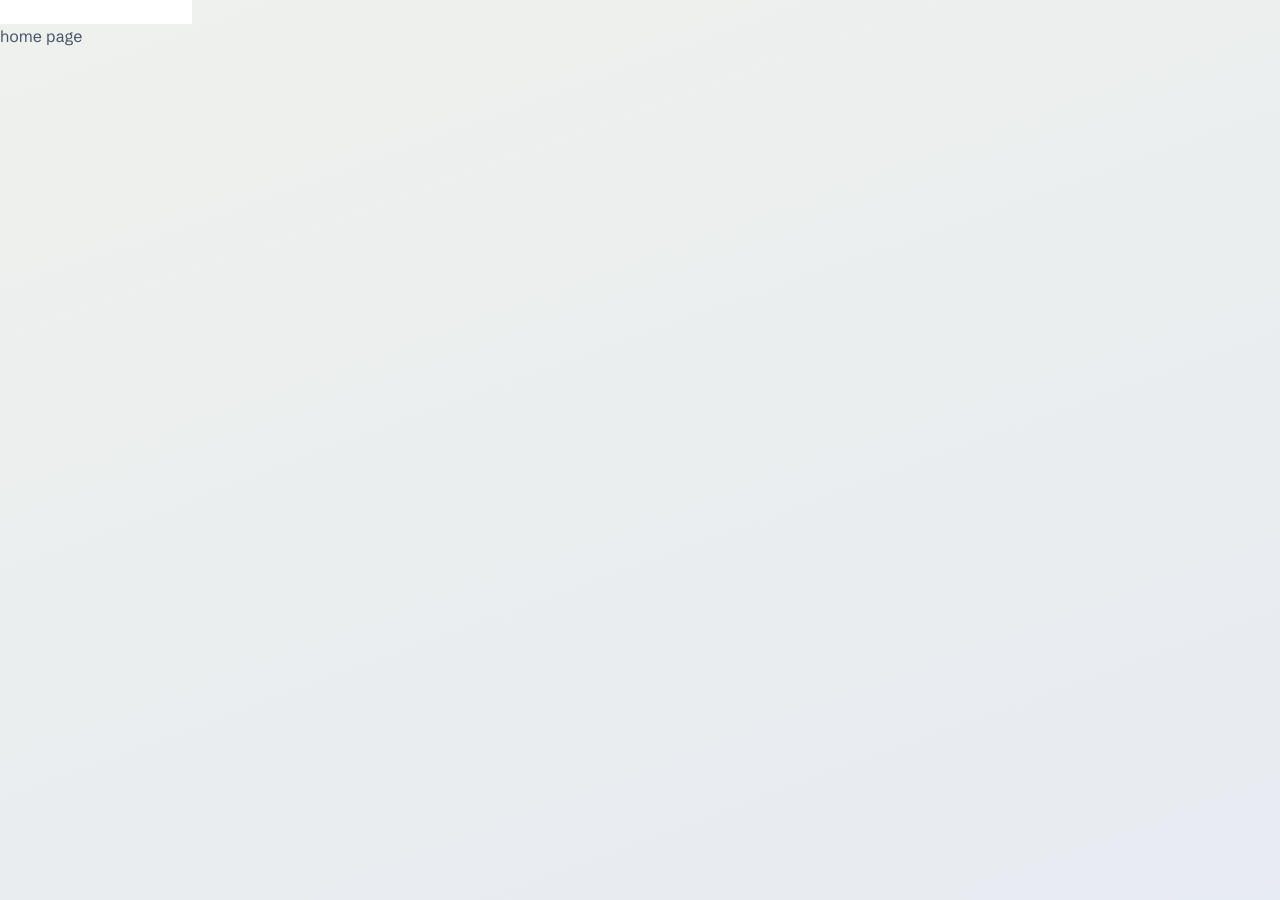
CommandPalette › creates a feature in a horizon with an inline title and navigates to it
Type keys "{Meta>}k{/Meta}"
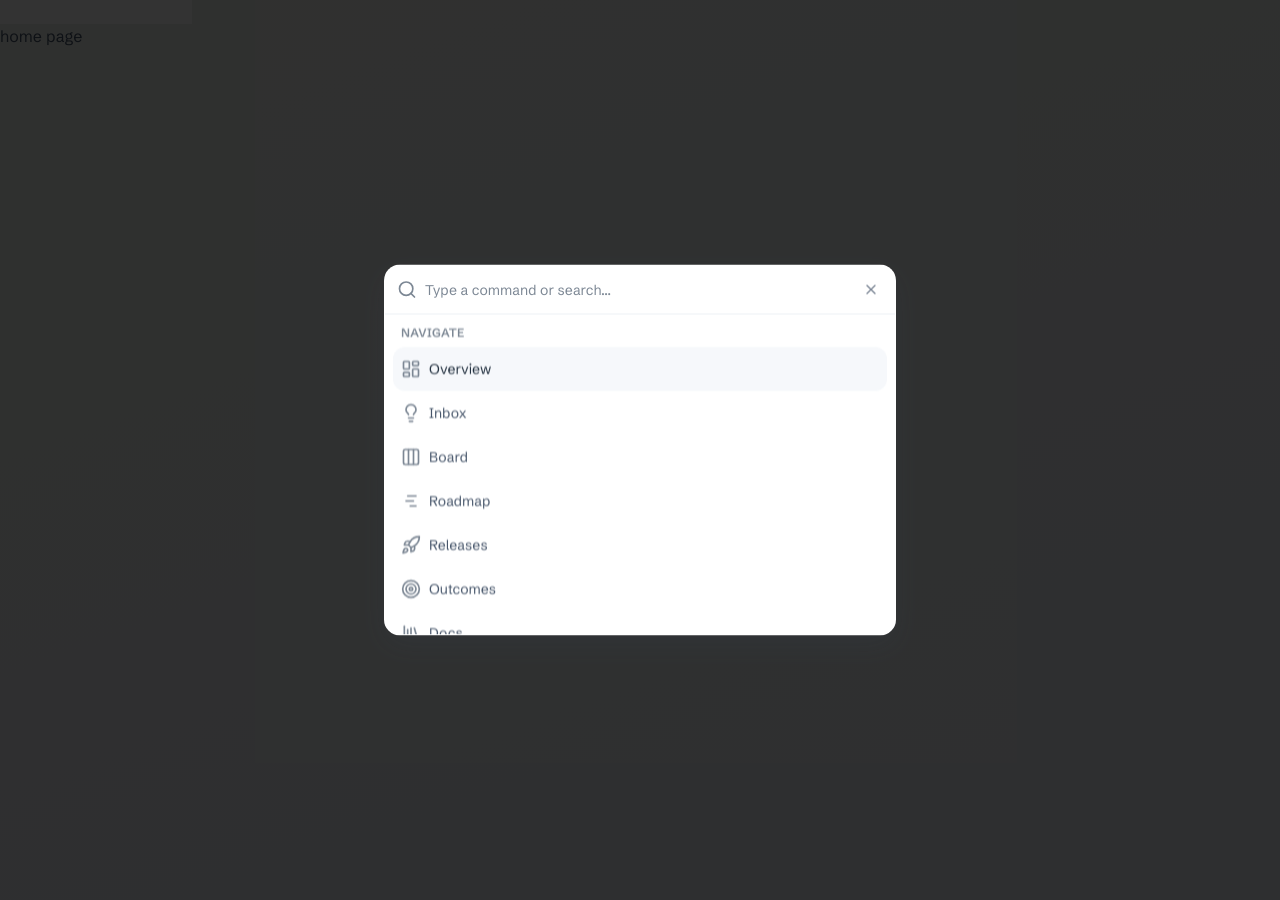
Type "new feature in later" into the dropdown with placeholder "Type a command or search…" at (654, 290), box [425,266,883,314]
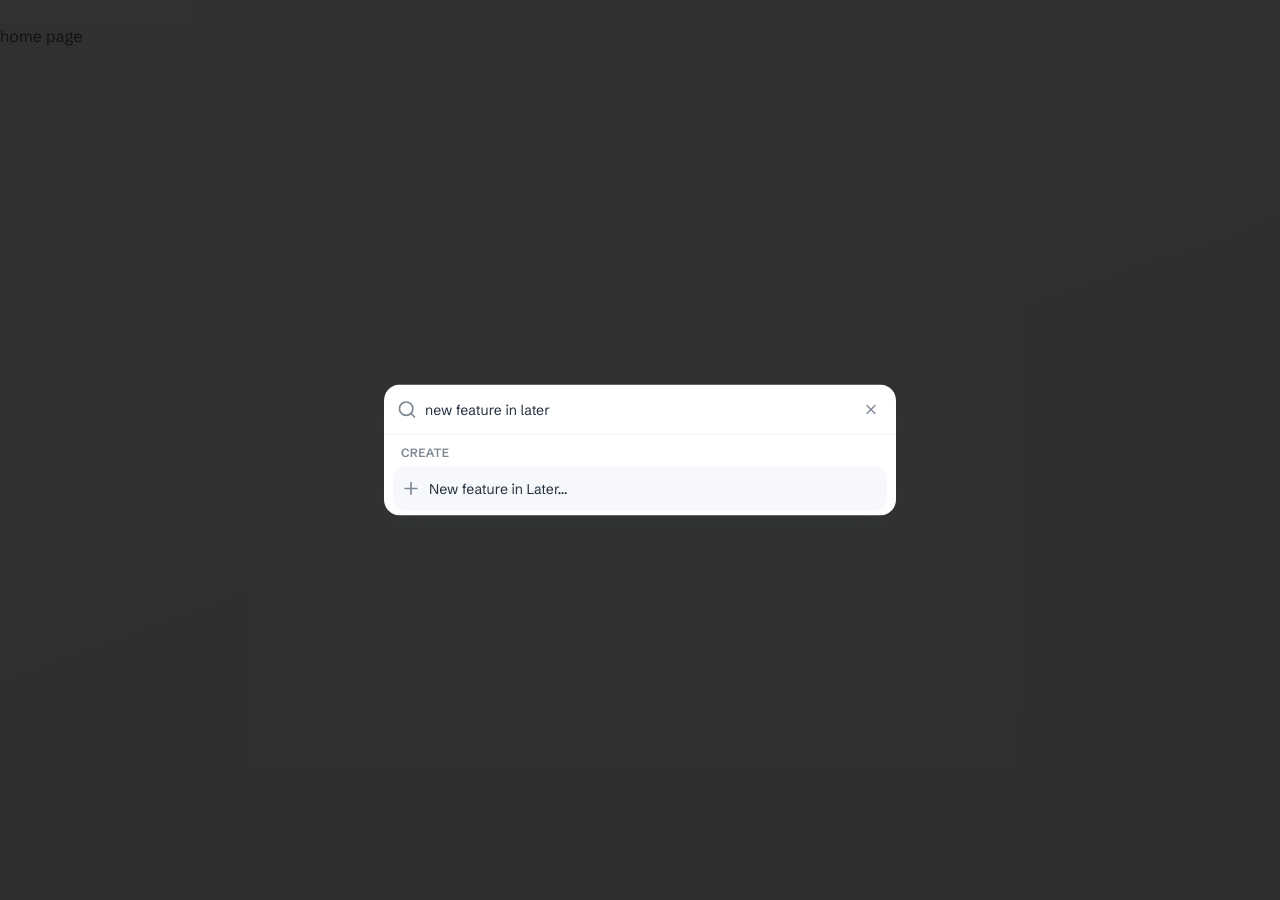
Click the option "New feature in Later…" at (478, 488), box [393,466,887,510]
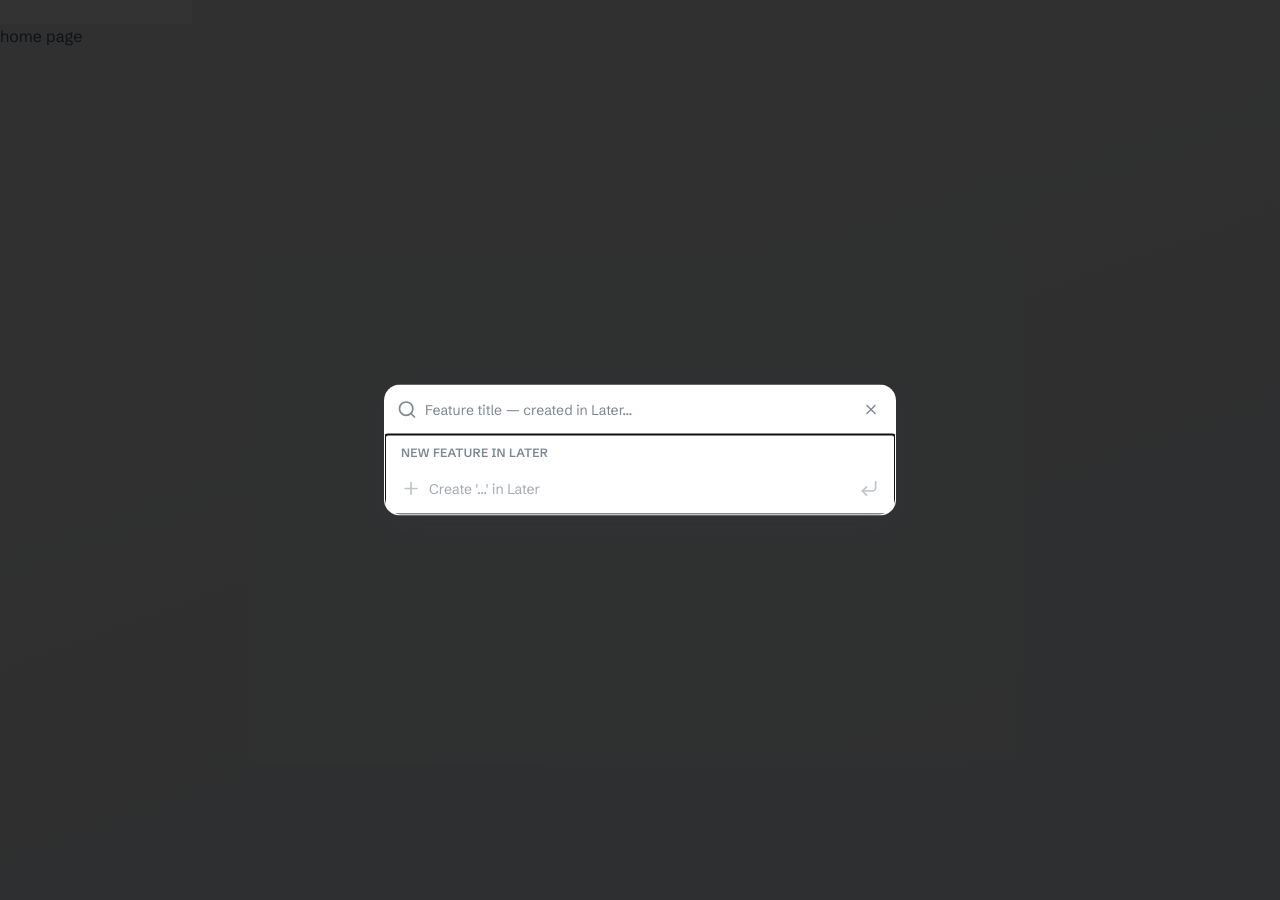
Type "Palette-born feature" into the dropdown with placeholder "Feature title — created in Later…" at (654, 410), box [425,386,883,434]
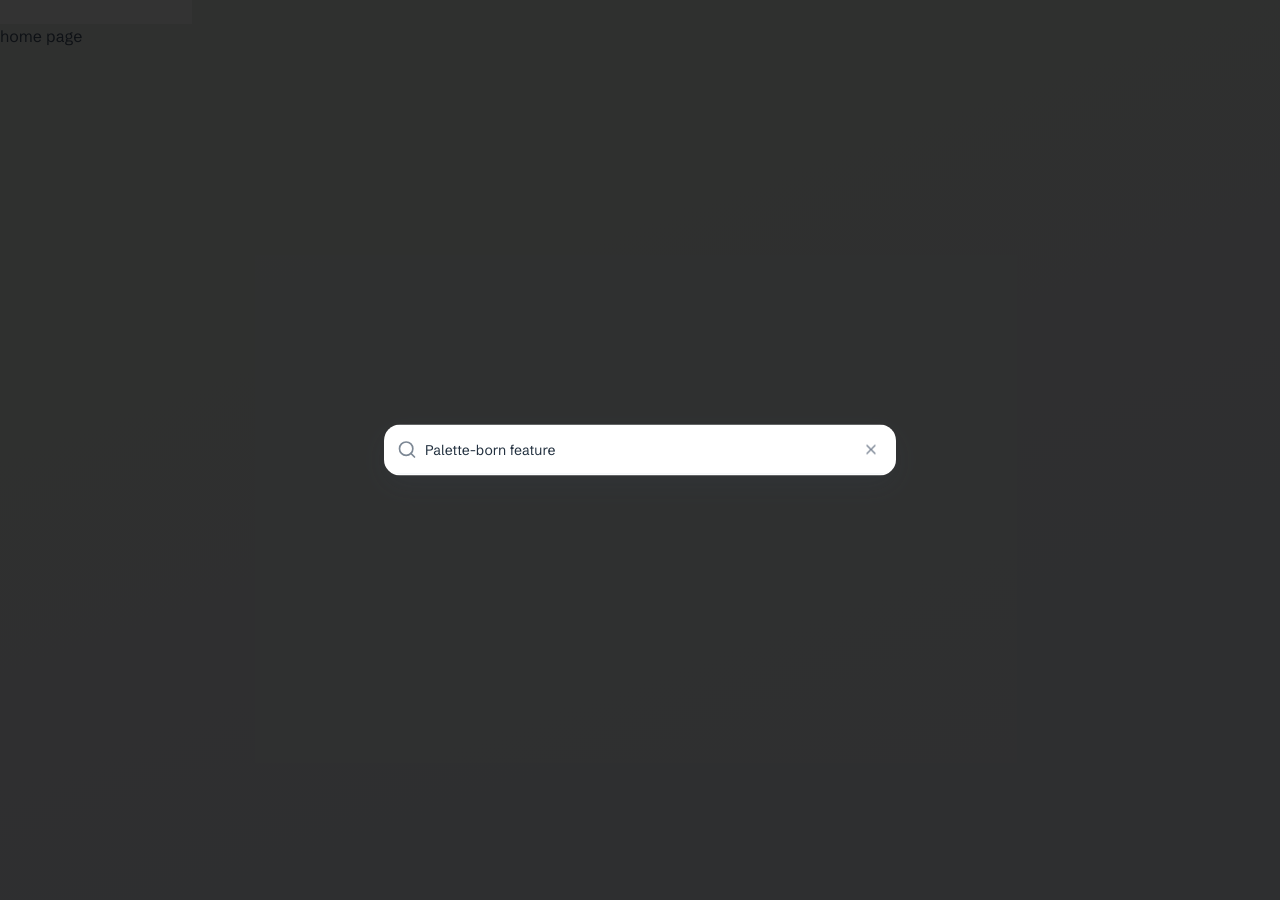
Press Enter
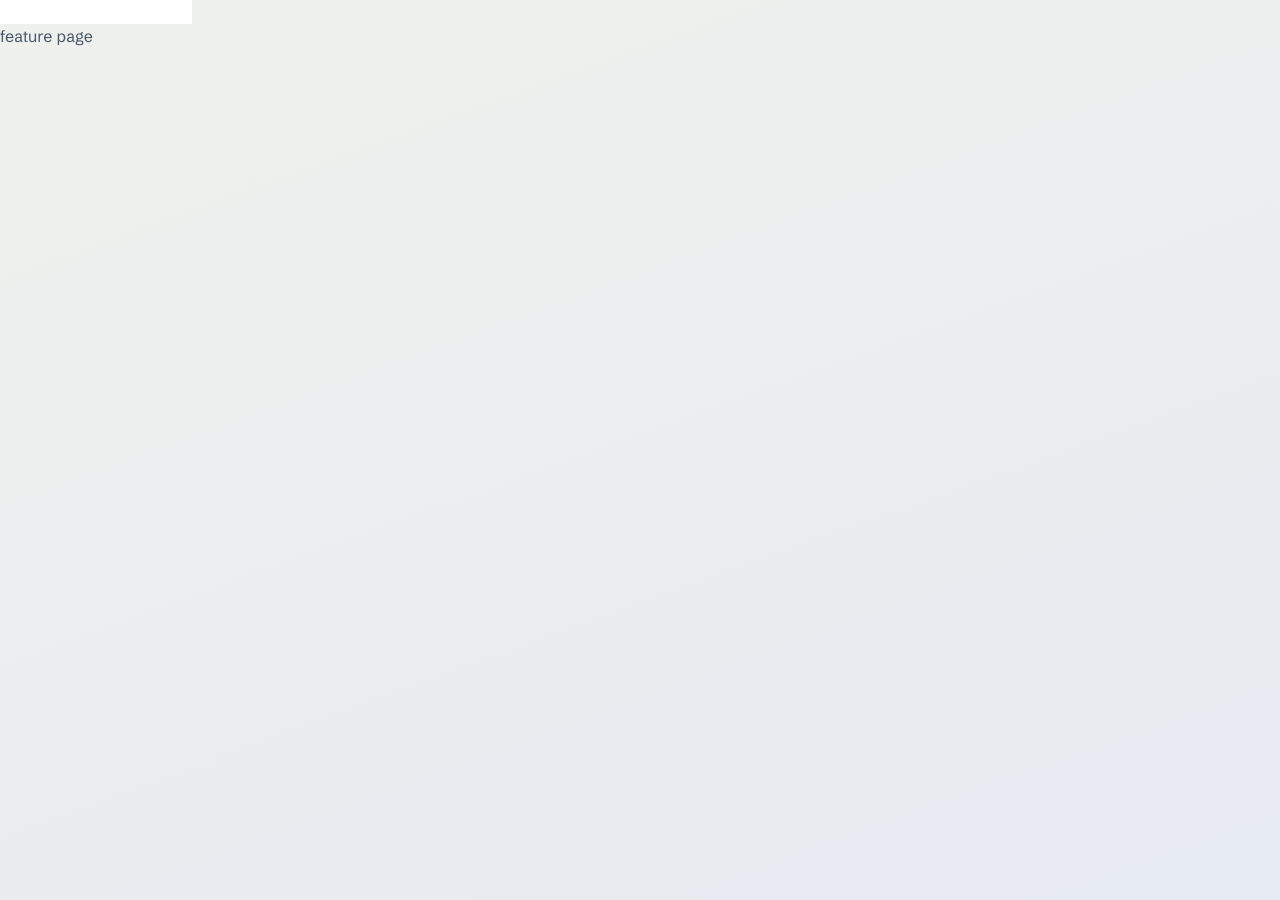
Expected: the field with placeholder "created in Later" is not shown
Now the text "feature page" is shown, box [0,26,93,46]
